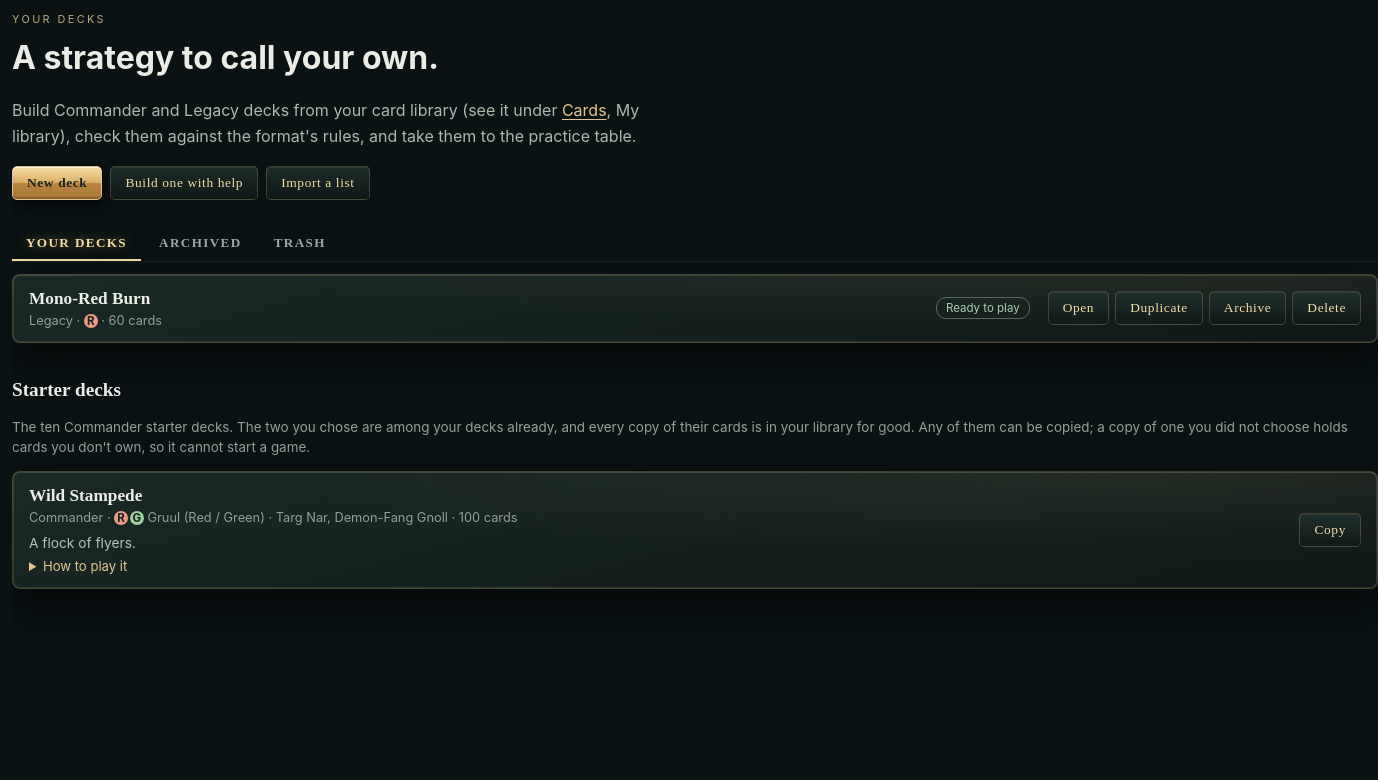
Test: the decks page › keeps the Archived tab's list when the list asked for after an archive answers last
What coordinates should you click on to do the following:
click the button "Archive"
I would click on:
 (1248, 308)
Its box is [1209, 292, 1286, 326].
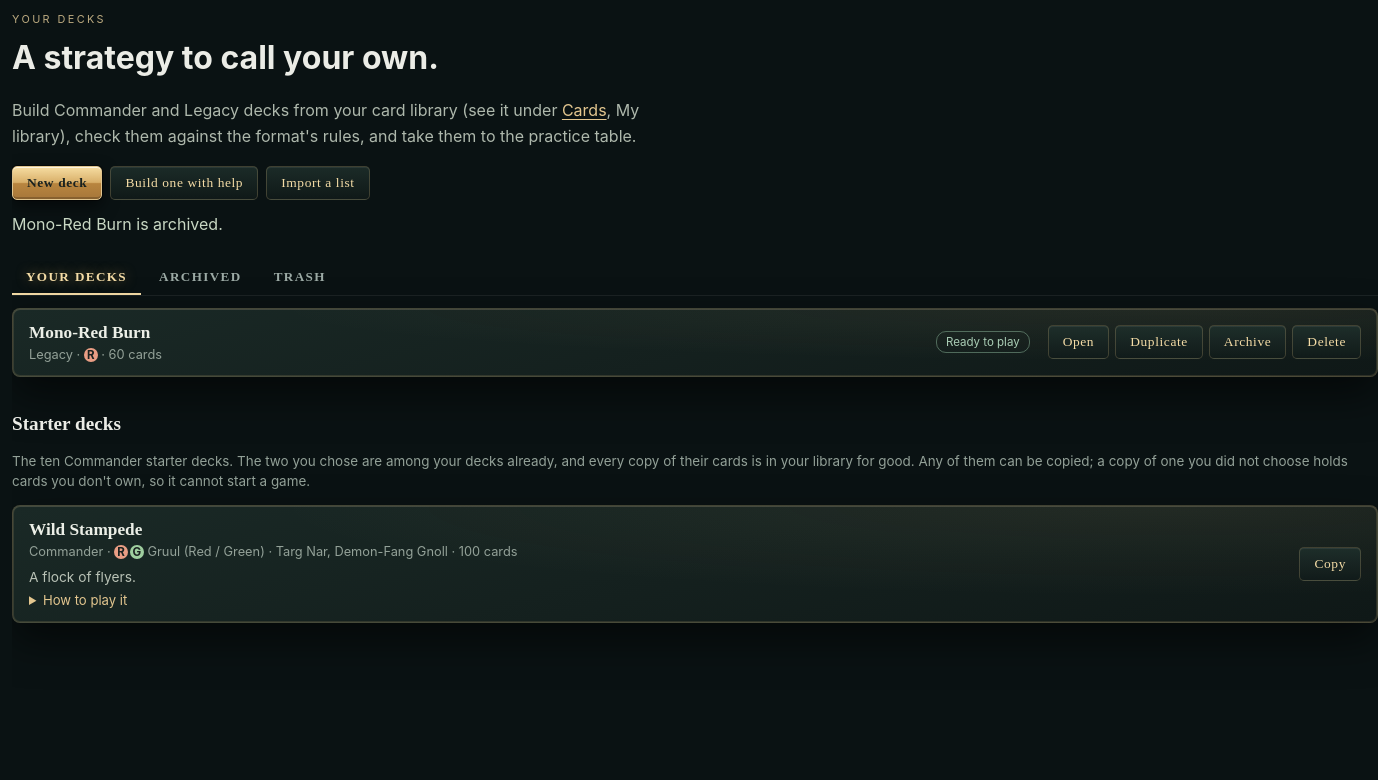
expect the text "Mono-Red Burn is archived." is shown: met, box [12, 214, 223, 234]
What coordinates should you click on to do the following:
click the tab "Archived"
I would click on:
 (200, 277)
Its box is [145, 260, 256, 295].
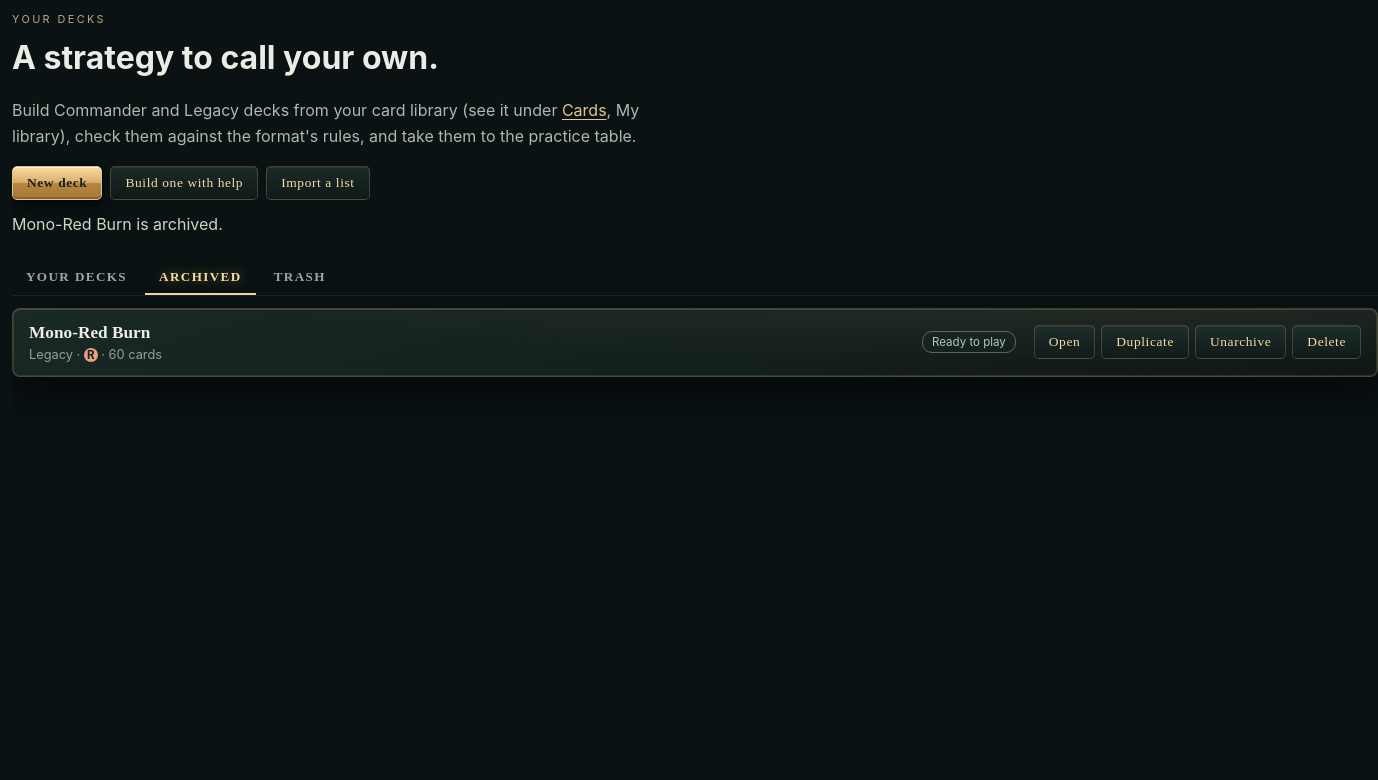
expect the button "Unarchive" is shown: met, box [1195, 326, 1286, 360]
